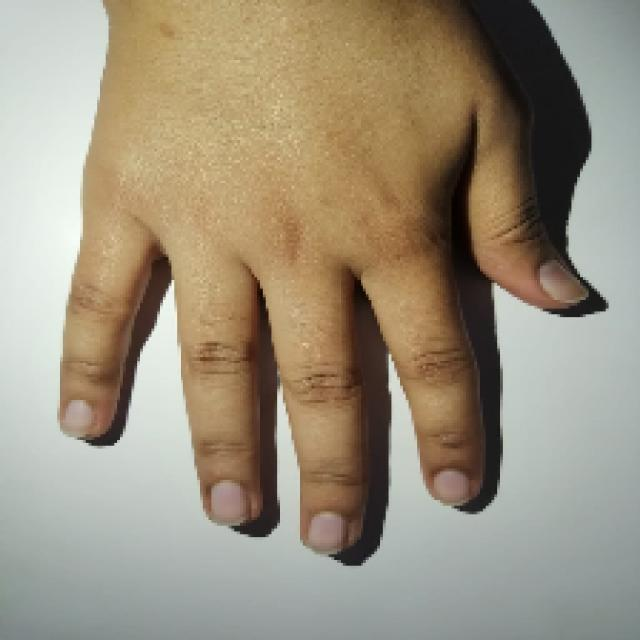Nail: (540, 260, 586, 304), (306, 511, 348, 553), (210, 480, 248, 525), (432, 469, 471, 504), (61, 399, 94, 438)
